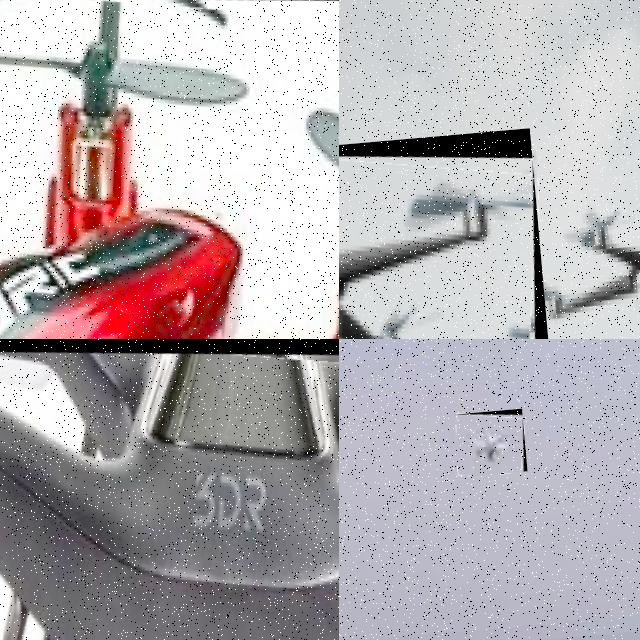drone: (0, 0, 339, 339), (0, 339, 339, 640), (339, 128, 553, 339), (453, 408, 527, 477)
